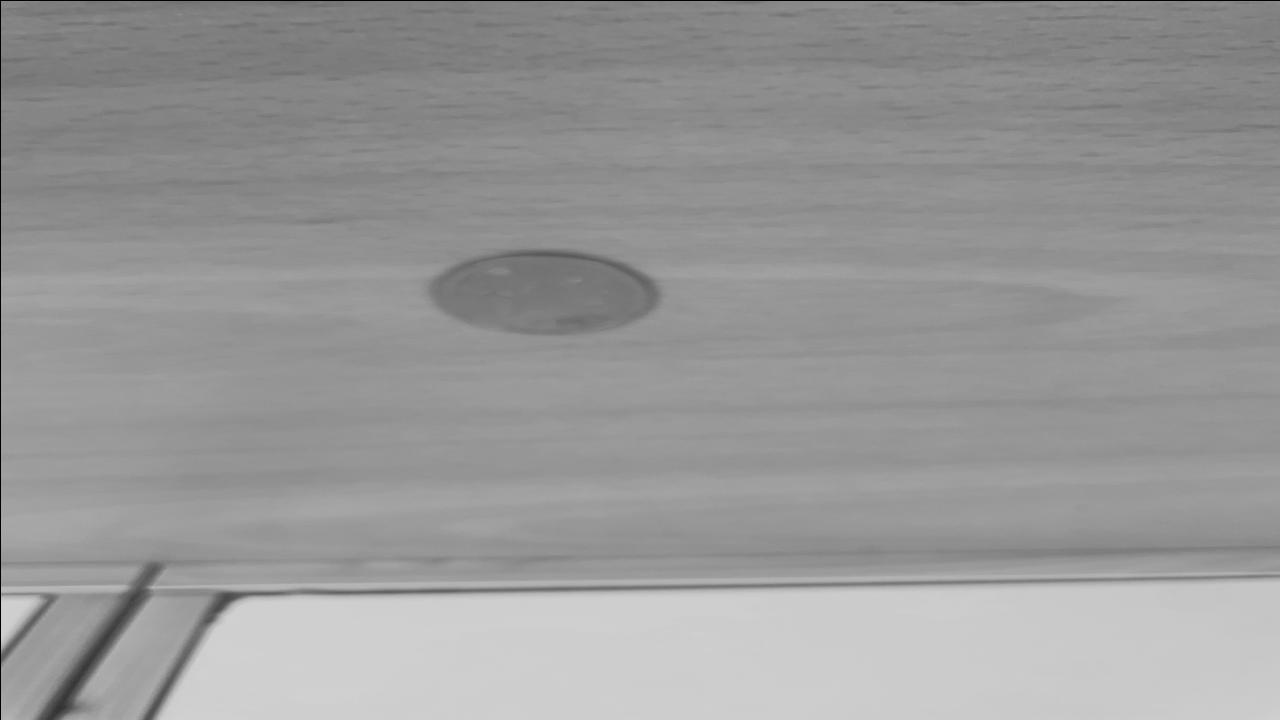coin: (426, 250, 658, 338)
